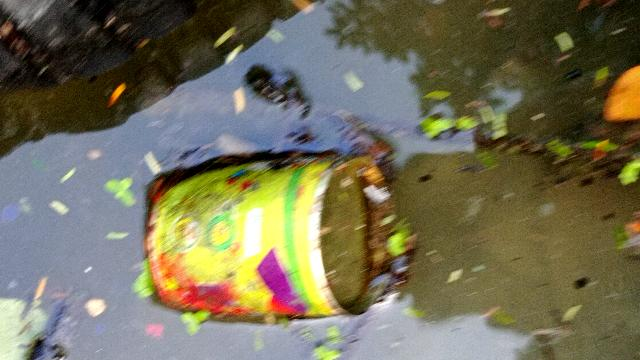hardplastic: (151, 143, 385, 319)
